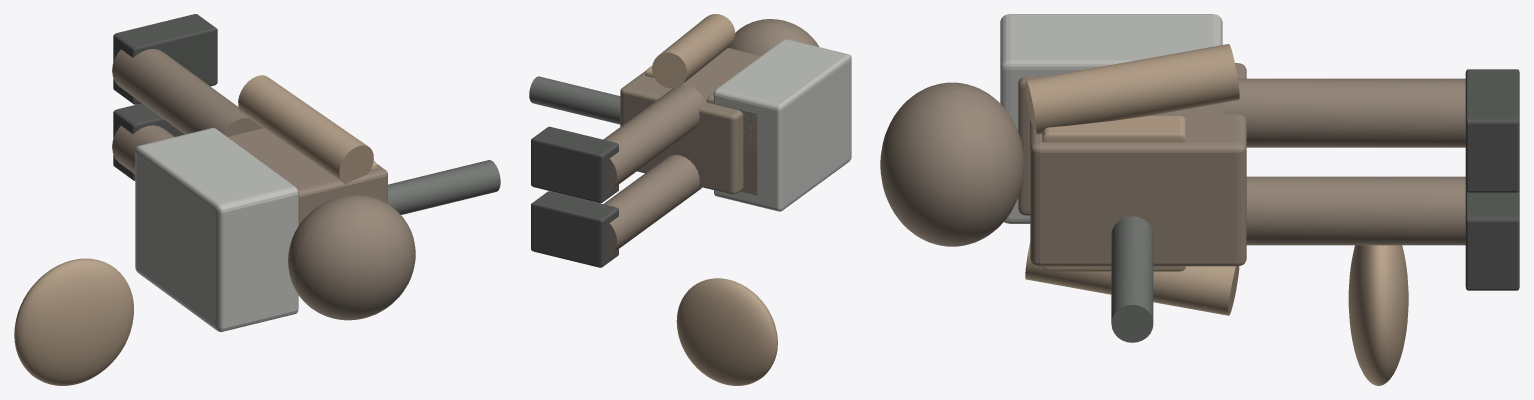
File: d-u06-dominion-combat-medic-lod1.glb
The picture shows the model from 3 angles, left to right: view 1: azimuth 30°, elevation 25°; view 2: azimuth 150°, elevation 25°; view 3: azimuth 270°, elevation 25°; orthographic projection. The views are drawn at different scales.
Visible parts, largest first — view 1: medical_pack, soldier_0_helmet, medic_drone, soldier_0_leg_1, soldier_0_arm_1, soldier_0_torso, soldier_0_boot_1, soldier_0_rifle, soldier_0_boot_-1, soldier_0_leg_-1; view 2: medical_pack, medic_drone, soldier_0_torso, soldier_0_boot_-1, soldier_0_boot_1, soldier_0_leg_1, soldier_0_leg_-1, soldier_0_arm_1, soldier_0_rifle, soldier_0_helmet, soldier_0_backpack; view 3: soldier_0_torso, soldier_0_helmet, soldier_0_leg_1, soldier_0_leg_-1, medical_pack, soldier_0_arm_1, medic_drone, soldier_0_boot_1, soldier_0_boot_-1, soldier_0_arm_-1, soldier_0_rifle, soldier_0_chest (+1 smaller).
Boxes of the visible parts, x1=… form: medical_pack: x1=135, y1=128, x2=298, y2=331; soldier_0_helmet: x1=288, y1=195, x2=415, y2=320; medic_drone: x1=14, y1=258, x2=133, y2=385; soldier_0_leg_1: x1=112, y1=49, x2=262, y2=136; soldier_0_arm_1: x1=238, y1=75, x2=373, y2=184; soldier_0_torso: x1=227, y1=128, x2=387, y2=223; soldier_0_boot_1: x1=113, y1=14, x2=217, y2=104; soldier_0_rifle: x1=388, y1=160, x2=500, y2=214; soldier_0_boot_-1: x1=113, y1=103, x2=184, y2=180; soldier_0_leg_-1: x1=112, y1=125, x2=174, y2=173; medical_pack: x1=714, y1=39, x2=851, y2=211; medic_drone: x1=676, y1=278, x2=777, y2=385; soldier_0_torso: x1=620, y1=48, x2=760, y2=194; soldier_0_boot_-1: x1=531, y1=191, x2=618, y2=267; soldier_0_boot_1: x1=531, y1=126, x2=618, y2=203; soldier_0_leg_1: x1=603, y1=85, x2=705, y2=190; soldier_0_leg_-1: x1=603, y1=155, x2=701, y2=254; soldier_0_arm_1: x1=652, y1=14, x2=735, y2=88; soldier_0_rifle: x1=529, y1=76, x2=620, y2=124; soldier_0_helmet: x1=728, y1=19, x2=818, y2=55; soldier_0_backpack: x1=706, y1=93, x2=757, y2=195; soldier_0_torso: x1=1030, y1=63, x2=1246, y2=266; soldier_0_helmet: x1=880, y1=82, x2=1024, y2=246; soldier_0_leg_1: x1=1224, y1=78, x2=1465, y2=147; soldier_0_leg_-1: x1=1246, y1=176, x2=1465, y2=245; medical_pack: x1=1000, y1=14, x2=1222, y2=223; soldier_0_arm_1: x1=1025, y1=44, x2=1239, y2=134; medic_drone: x1=1348, y1=245, x2=1408, y2=385; soldier_0_boot_1: x1=1465, y1=69, x2=1519, y2=192; soldier_0_boot_-1: x1=1465, y1=189, x2=1519, y2=290; soldier_0_arm_-1: x1=1025, y1=242, x2=1239, y2=315; soldier_0_rifle: x1=1111, y1=216, x2=1153, y2=342; soldier_0_chest: x1=1042, y1=116, x2=1186, y2=271.
Size of what is drawn, in the model's own units: 1.88 by 1.51 by 2.13.
